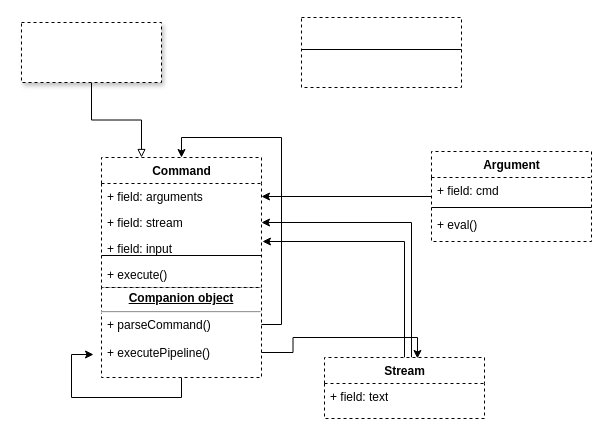
Image size: 609x436. Some labels were removed from this diagram. The shapes that lost their labels are listed below. From the top down, each one's centre as x and y in pixels, then its label:
(92,54): Echo
(381,52): VariableManager + get() + set()
